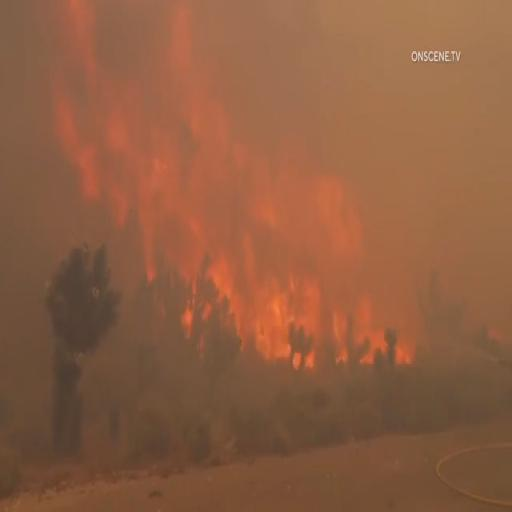fire: (183, 234, 407, 385)
smoke: (250, 6, 384, 164)
